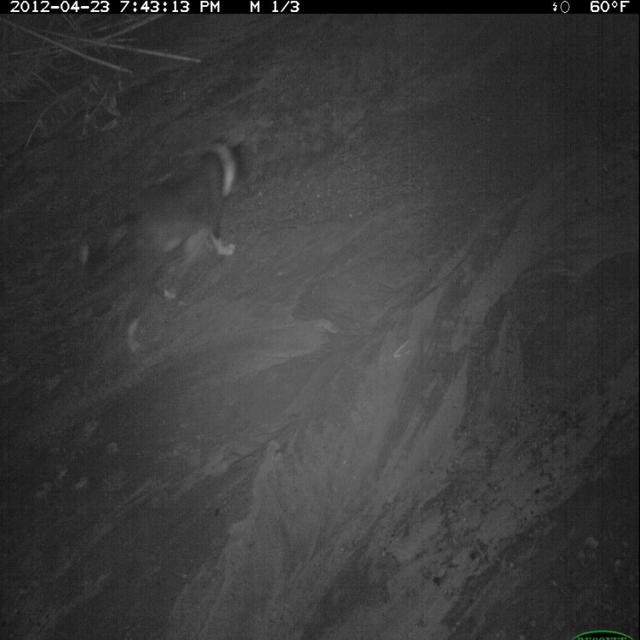dog: (73, 124, 254, 362)
